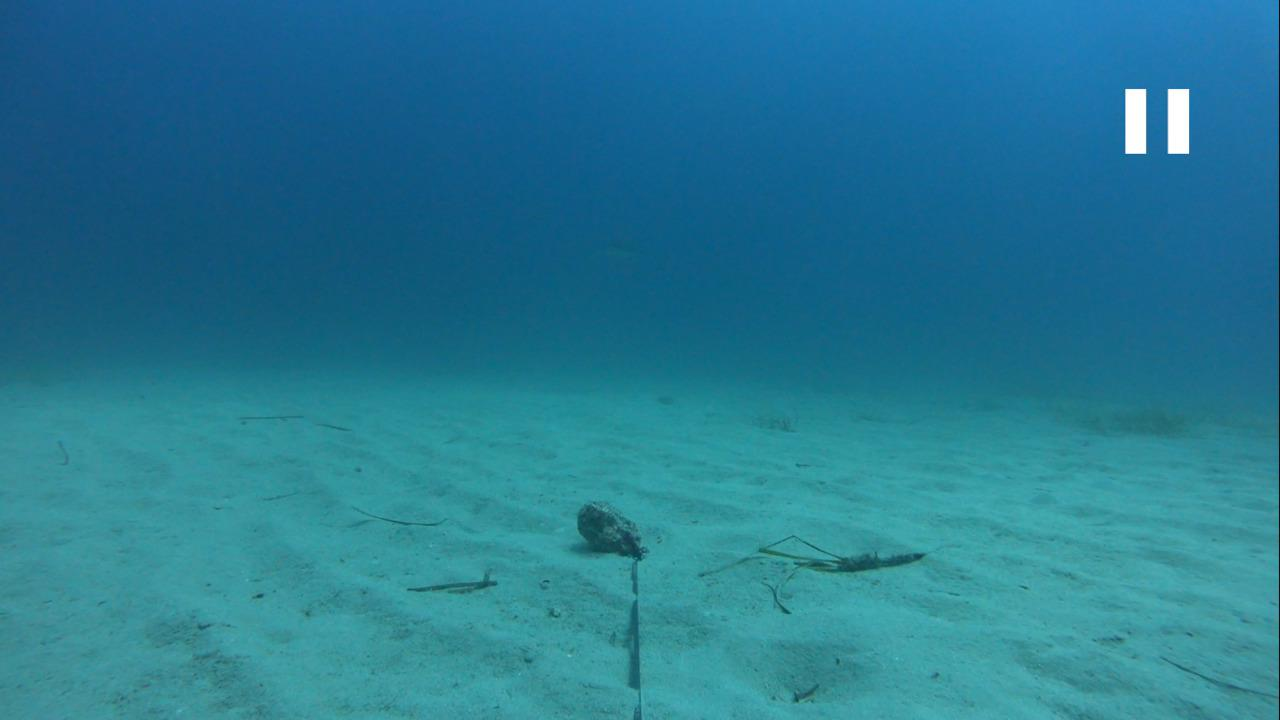myliobatis: (553, 228, 669, 275)
